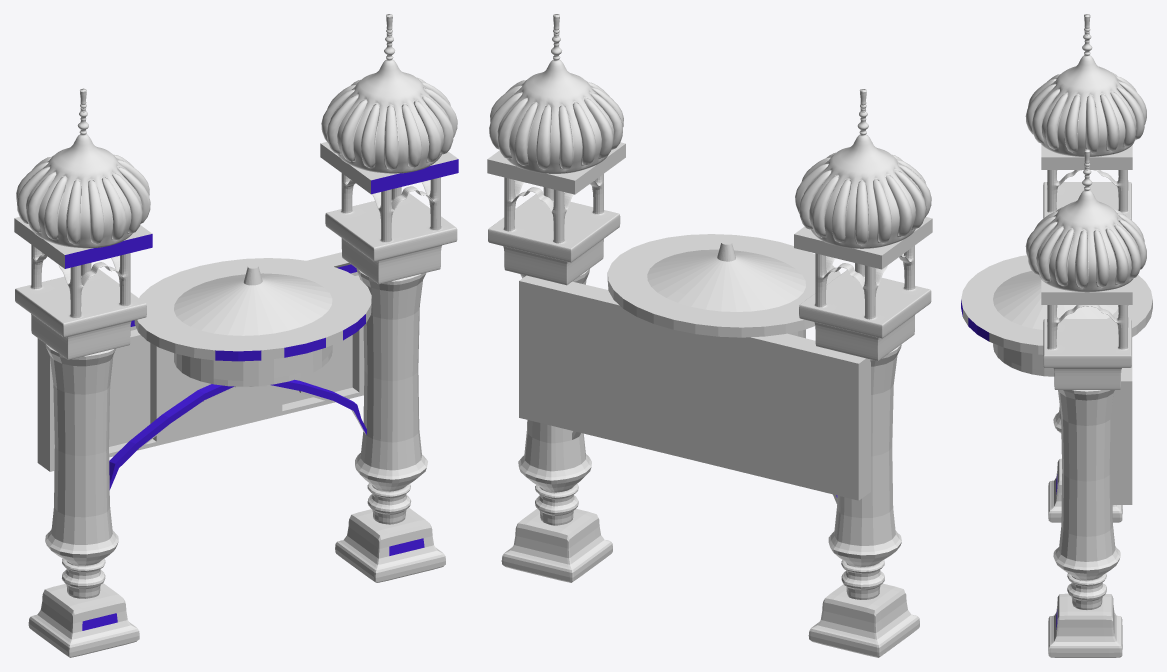
File: sikh_door_actual.fbx
3 views of the same model, side by side, from view 1: azimuth 30°, elevation 25°; view 2: azimuth 150°, elevation 25°; view 3: azimuth 270°, elevation 25° (orthographic). The views are drawn at different scales.
Visible parts, largest first — view 1: Cube.005; view 2: Cube.005; view 3: Cube.005.
Part boxes in pixels (<box>): Cube.005: <box>14,14,458,657</box>; Cube.005: <box>487,14,932,657</box>; Cube.005: <box>961,14,1152,657</box>.
Bounding box in the file's own units: 18970 × 23360 × 8224.
